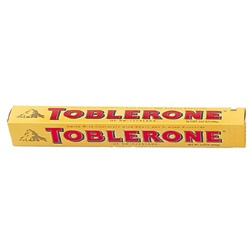grozi_68: (7, 106, 246, 148)
